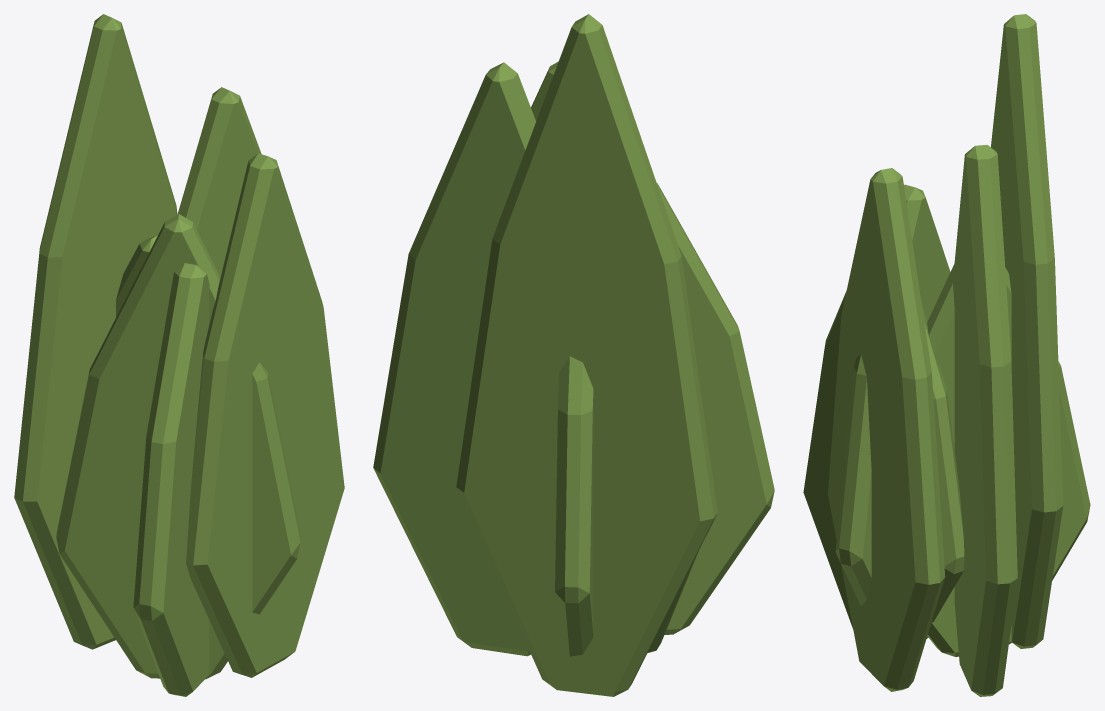
File: prop_grass_tuft.glb
The picture shows the model from 3 angles, left to right: view 1: azimuth 30°, elevation 25°; view 2: azimuth 150°, elevation 25°; view 3: azimuth 270°, elevation 25°; orthographic projection. The views are drawn at different scales.
Parts seen in each view (by area): view 1: tft_b5, tft_b0, tft_b3, tft_b1, tft_b4, tft_b2; view 2: tft_b0, tft_b4, tft_b1, tft_b2; view 3: tft_b5, tft_b4, tft_b0, tft_b1, tft_b3, tft_b2.
Boxes of the visible parts, bbox=[...] form: tft_b5: bbox=[186, 153, 344, 677]; tft_b0: bbox=[14, 14, 177, 649]; tft_b3: bbox=[56, 214, 300, 679]; tft_b1: bbox=[133, 263, 209, 696]; tft_b4: bbox=[177, 87, 261, 276]; tft_b2: bbox=[116, 235, 157, 317]; tft_b0: bbox=[456, 14, 717, 696]; tft_b4: bbox=[373, 62, 535, 656]; tft_b1: bbox=[657, 183, 774, 634]; tft_b2: bbox=[555, 356, 593, 656]; tft_b5: bbox=[828, 168, 945, 691]; tft_b4: bbox=[952, 145, 1017, 696]; tft_b0: bbox=[991, 14, 1063, 648]; tft_b1: bbox=[803, 291, 964, 628]; tft_b3: bbox=[835, 184, 950, 638]; tft_b2: bbox=[927, 264, 1090, 656].
Size of the model in its own units: 0.2081 by 0.3994 by 0.1669.
